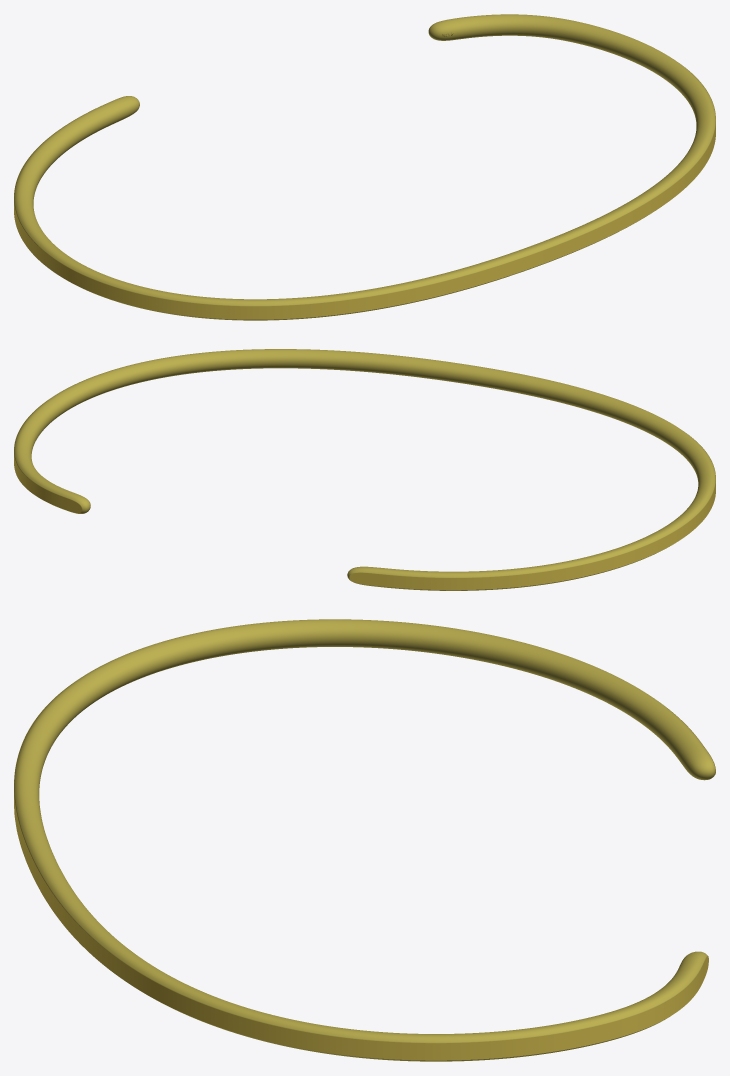
File: light-gold18.glb
3 views of the same model, one above another, from view 1: azimuth 30°, elevation 25°; view 2: azimuth 150°, elevation 25°; view 3: azimuth 270°, elevation 25° (orthographic). The views are drawn at different scales.
Parts seen in each view (by area): view 1: lightbody.001, lightomote.001; view 2: lightbody.001, lightomote.001; view 3: lightbody.001, lightomote.001.
Boxes of the visible parts, <box> form: lightbody.001: <box>14,14,715,320</box>; lightomote.001: <box>14,67,715,319</box>; lightbody.001: <box>14,349,715,590</box>; lightomote.001: <box>14,406,715,590</box>; lightbody.001: <box>14,619,715,1061</box>; lightomote.001: <box>14,689,715,1060</box>.
Bounding box in the file's own units: 3.4 × 0.0938 × 2.39.
Materials: 2 (2 with a texture image).
